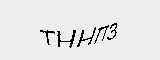З: (108, 22, 119, 41)
Н: (77, 24, 98, 51), (58, 26, 78, 50)
П: (95, 24, 108, 45)
Т: (40, 29, 54, 46)
